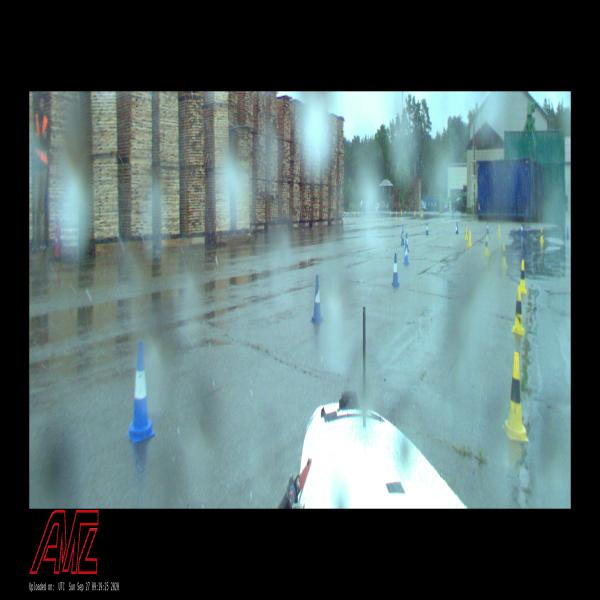blue_cone: (127, 341, 155, 443), (310, 275, 323, 323), (392, 253, 400, 286), (403, 240, 409, 264), (404, 233, 409, 252), (400, 229, 404, 245), (520, 223, 524, 235), (566, 225, 569, 239), (486, 221, 489, 234), (401, 225, 404, 237), (426, 222, 428, 235), (456, 222, 458, 234)
yellow_cone: (502, 352, 529, 442), (511, 286, 525, 335), (520, 260, 526, 294), (502, 243, 507, 266), (484, 236, 489, 254), (539, 228, 544, 242), (468, 230, 472, 247), (464, 226, 468, 240), (498, 225, 500, 238)
